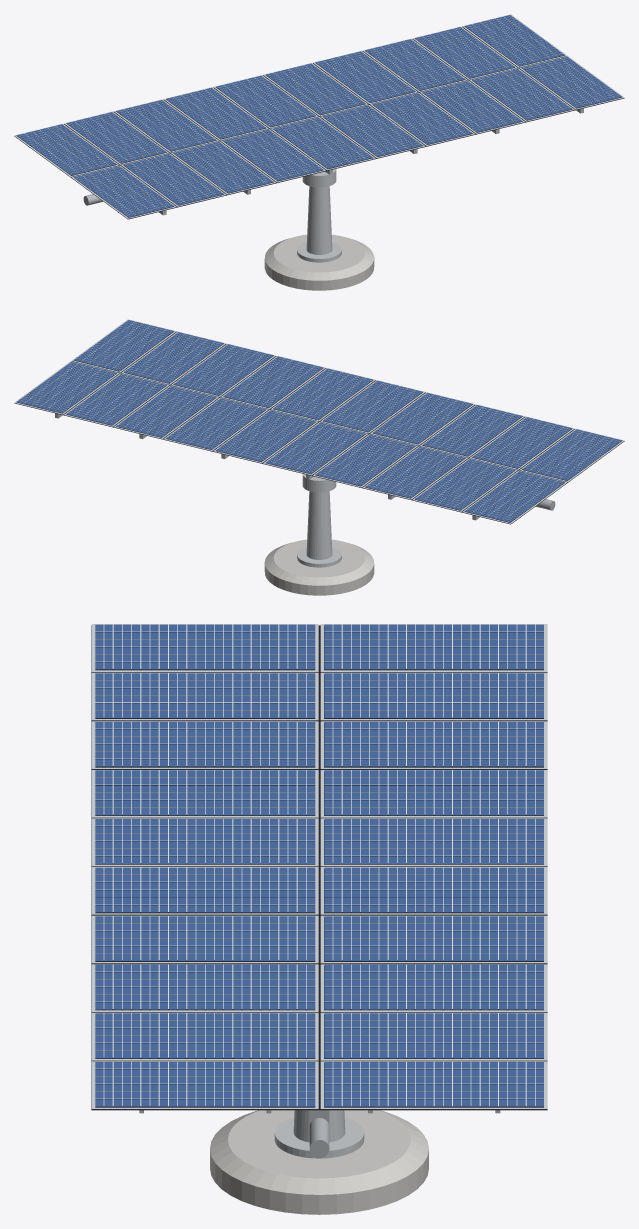
The model's file is solar-auto.glb.
3 renders of one model, top to bottom at view 1: azimuth 30°, elevation 25°; view 2: azimuth 150°, elevation 25°; view 3: azimuth 270°, elevation 25°, orthographic. The views are drawn at different scales.
Parts seen in each view (by area): view 1: SolarPanelSurface, SolarPanelBacking, SolarPanelGrid, SolarPanelFrame, SolarPanelFooting, SolarPanelBase; view 2: SolarPanelSurface, SolarPanelBacking, SolarPanelGrid, SolarPanelFrame, SolarPanelFooting, SolarPanelBase; view 3: SolarPanelSurface, SolarPanelGrid, SolarPanelBacking, SolarPanelFrame, SolarPanelFooting, SolarPanelBase, SolarPanelYoke.
Boxes of the visible parts, x1,y1,x2,y2 form: SolarPanelSurface: (17, 15, 621, 217); SolarPanelBacking: (14, 16, 624, 219); SolarPanelGrid: (19, 16, 618, 215); SolarPanelFrame: (14, 14, 624, 218); SolarPanelFooting: (264, 234, 374, 290); SolarPanelBase: (297, 169, 341, 262); SolarPanelSurface: (17, 320, 621, 522); SolarPanelBacking: (14, 321, 624, 524); SolarPanelGrid: (21, 321, 619, 520); SolarPanelFrame: (14, 319, 624, 523); SolarPanelFooting: (264, 539, 374, 595); SolarPanelBase: (297, 474, 341, 567); SolarPanelSurface: (95, 624, 543, 1106); SolarPanelGrid: (95, 624, 543, 1106); SolarPanelBacking: (91, 625, 547, 1110); SolarPanelFrame: (91, 624, 547, 1108); SolarPanelFooting: (210, 1110, 428, 1214); SolarPanelBase: (274, 1110, 364, 1158); SolarPanelYoke: (139, 1110, 500, 1157).
Bounding box in the file's own units: 11.52 × 3.36 × 4.58.
